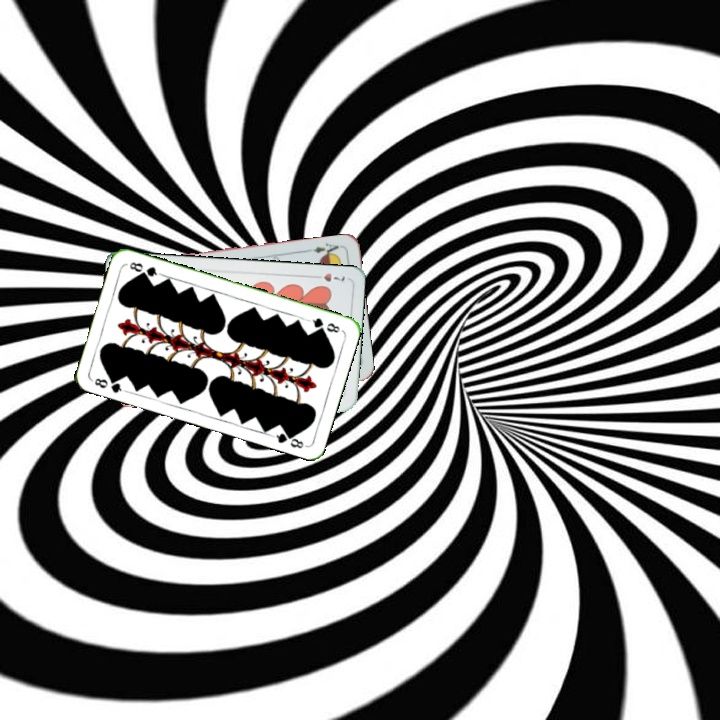EA: (303, 239, 344, 260)
G8: (89, 372, 128, 396), (304, 313, 342, 335)
H7: (308, 269, 347, 284)
